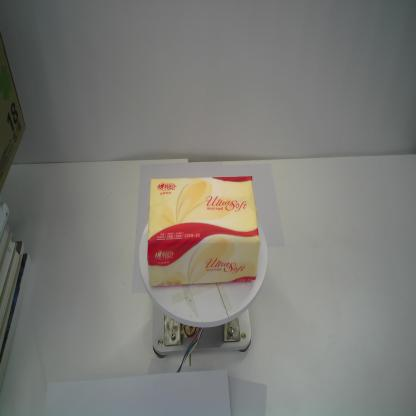Tissue: (146, 174, 262, 288)
